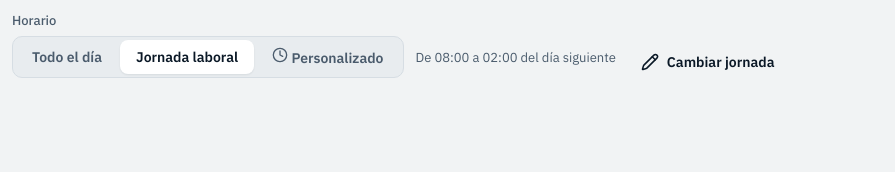
it: HourFilterBar › 4. abrir el editor precarga las horas y enfoca "Abre"
Click the button "Cambiar jornada" at (708, 62), box [628,46,788,78]
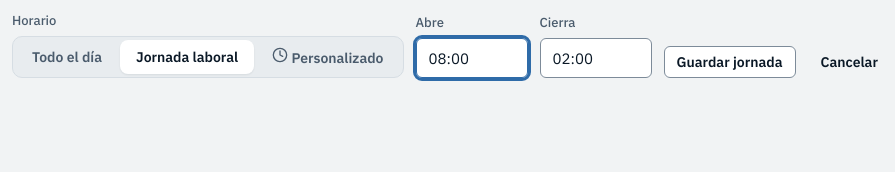
Expected: the field labelled "Abre" holds "08:00", [416,38,528,78]
Expected: the field labelled "Cierra" holds "02:00", [540,38,652,78]
